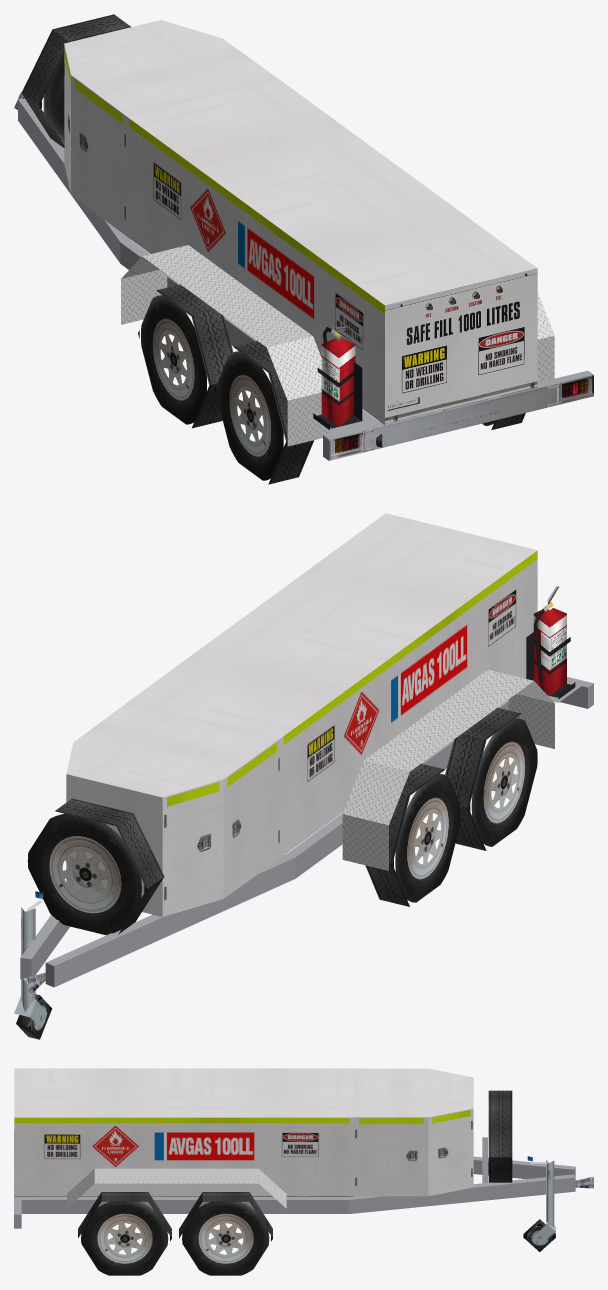
The model's file is fuel-trailer-5m-cbj_LOD04.gltf.
3 views of the same model, one above another, from view 1: azimuth 30°, elevation 25°; view 2: azimuth 150°, elevation 25°; view 3: azimuth 270°, elevation 25° (orthographic). The views are drawn at different scales.
Visible parts, largest first — view 1: fuel-trailer1-04; view 2: fuel-trailer1-04; view 3: fuel-trailer1-04.
Boxes of the visible parts, bbox=[...] form: fuel-trailer1-04: bbox=[14, 14, 593, 484]; fuel-trailer1-04: bbox=[14, 513, 593, 1039]; fuel-trailer1-04: bbox=[14, 1068, 593, 1275].
Bounding box in the file's own units: 1.82 × 1.46 × 5.21.
